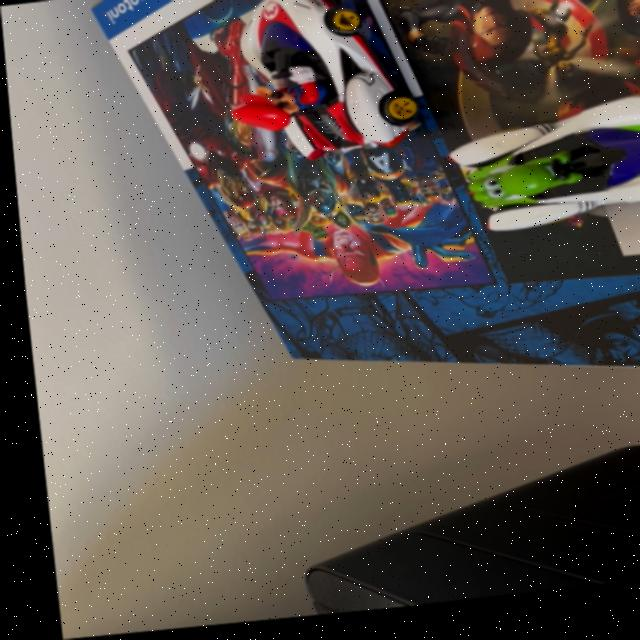mario: (208, 0, 438, 183)
yoshi: (434, 102, 640, 263)
